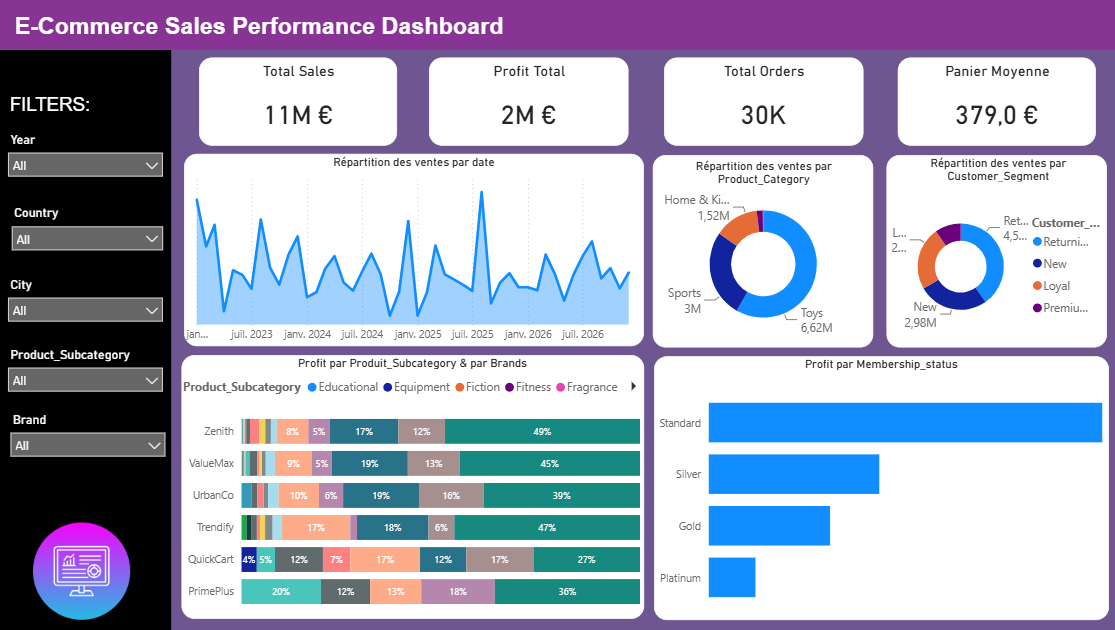

What the dashboard file says about the page in this screenshot:
{"tool":"powerbi","page":{"name":"Dshboard","canvas":[1280,720],"ordinal":1},"visuals":[{"type":"shape","box":[0,57.1,197.1,662.9],"z":0},{"type":"shape","box":[0,0,1280,57],"z":1000},{"type":"slicer","fields":{"Values":["gold fact_orders.Country"]},"box":[4.3,230,192.9,90],"z":2000},{"type":"slicer","fields":{"Values":["gold dim_date.Year"]},"box":[0,145.7,197.1,72.9],"z":3000},{"type":"card","title":"Total Sales","fields":{"Values":["KPI.Revenu_Total"]},"box":[228.9,65.6,226.7,101.1],"z":4000},{"type":"hundredPercentStackedBarChart","title":"Profit par Produit_Subcategory & par Brands","fields":{"Y":["Sum(gold fact_orders.Profit_Amount)"],"Category":["gold dim_product.Brand"],"Series":["gold dim_product.Product_Subcategory"]},"box":[208.6,405.7,528.6,301.4],"z":5000},{"type":"card","title":"Profit Total","fields":{"Values":["KPI.Profit_Total"]},"box":[491.1,65.6,227.8,101.1],"z":6000},{"type":"card","title":"Total Orders","fields":{"Values":["KPI.Total_Orders"]},"box":[760,65.6,227.8,101.1],"z":7000},{"type":"slicer","fields":{"Values":["gold fact_orders.City"]},"box":[0,311.4,197.1,72.9],"z":8000},{"type":"textbox","box":[12.9,10,627.1,55.7],"z":9000},{"type":"donutChart","title":"Répartition des ventes par Customer_Segment","fields":{"Category":["gold dim_customer.Customer_Segment"],"Y":["Sum(gold fact_orders.Order_Amount)"]},"box":[1014.4,177.8,252.2,220],"z":10000},{"type":"donutChart","title":"Répartition des ventes par Product_Category","fields":{"Y":["Sum(gold fact_orders.Order_Amount)"],"Category":["gold dim_product.Product_Category"]},"box":[747.8,177.8,252.2,220],"z":11000},{"type":"slicer","fields":{"Values":["gold dim_product.Product_Subcategory"]},"box":[0,391.4,197.1,85.7],"z":12000},{"type":"image","box":[30,597.1,128.6,111.4],"z":13000},{"type":"textbox","box":[7.1,97.1,174.3,48.6],"z":14000},{"type":"stackedAreaChart","title":"Répartition  des ventes par date","fields":{"Category":["gold dim_date.Order_Date.Variation.Date Hierarchy.Year","gold dim_date.Order_Date.Variation.Date Hierarchy.Month"],"Y":["Sum(gold fact_orders.Order_Amount)"]},"box":[211.4,175.7,525.7,220],"z":15000},{"type":"slicer","fields":{"Values":["gold dim_product.Brand"]},"box":[2.9,465.7,197.1,85.7],"z":16000},{"type":"barChart","title":"Profit par Membership_status","fields":{"Y":["Sum(gold fact_orders.Profit_Amount)"],"Category":["gold dim_customer.Membership_Status"]},"box":[748.3,406.7,520,301.7],"z":17000},{"type":"card","title":"Panier Moyenne","fields":{"Values":["KPI.Panier moyen"]},"box":[1027.8,65.6,226.7,101.1],"z":18000}]}

Visuals, with their boxes in screenshot pixels (x1, y1, x2, y2), scaled from the page's 1280x720 canvas onto the 1115x630 screenshot:
shape: crop(0, 50, 172, 629)
shape: crop(0, 0, 1114, 50)
slicer - gold fact_orders.Country: crop(4, 201, 172, 280)
slicer - gold dim_date.Year: crop(0, 127, 172, 191)
"Total Sales" card: crop(199, 57, 397, 146)
"Profit par Produit_Subcategory & par Brands" hundredPercentStackedBarChart: crop(182, 355, 642, 619)
"Profit Total" card: crop(428, 57, 626, 146)
"Total Orders" card: crop(662, 57, 860, 146)
slicer - gold fact_orders.City: crop(0, 272, 172, 336)
textbox: crop(11, 9, 558, 57)
"Répartition des ventes par Customer_Segment" donutChart: crop(884, 156, 1103, 348)
"Répartition des ventes par Product_Category" donutChart: crop(651, 156, 871, 348)
slicer - gold dim_product.Product_Subcategory: crop(0, 342, 172, 417)
image: crop(26, 522, 138, 620)
textbox: crop(6, 85, 158, 127)
"Répartition  des ventes par date" stackedAreaChart: crop(184, 154, 642, 346)
slicer - gold dim_product.Brand: crop(3, 407, 174, 482)
"Profit par Membership_status" barChart: crop(652, 356, 1105, 620)
"Panier Moyenne" card: crop(895, 57, 1093, 146)
